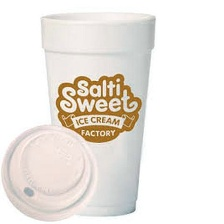paper_cup: (35, 6, 160, 221)
